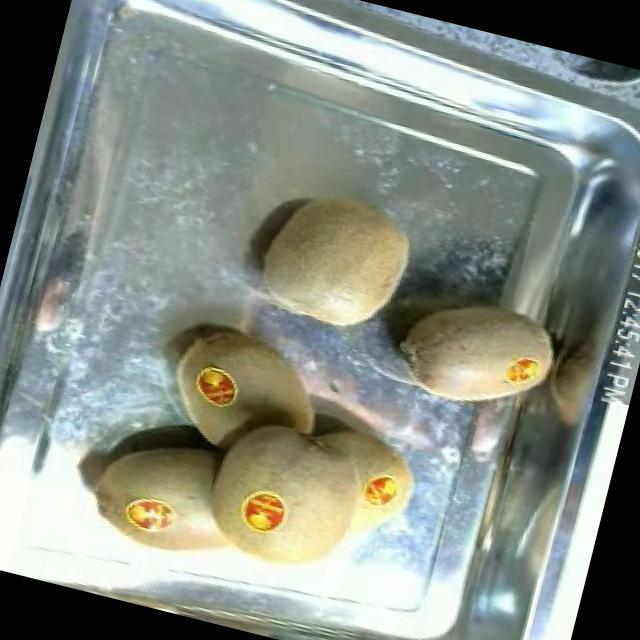Fruit: (179, 382, 437, 610), (71, 411, 276, 589), (241, 169, 428, 348), (379, 274, 572, 433)
